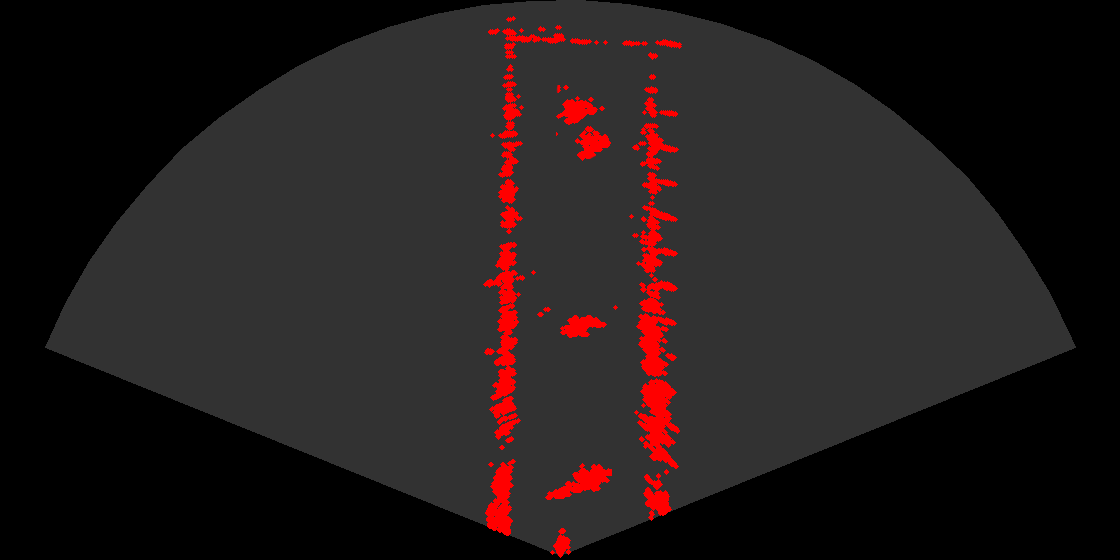AUV: (554, 313, 610, 345)
cage: (556, 85, 619, 169)
frogman: (544, 457, 612, 504)
